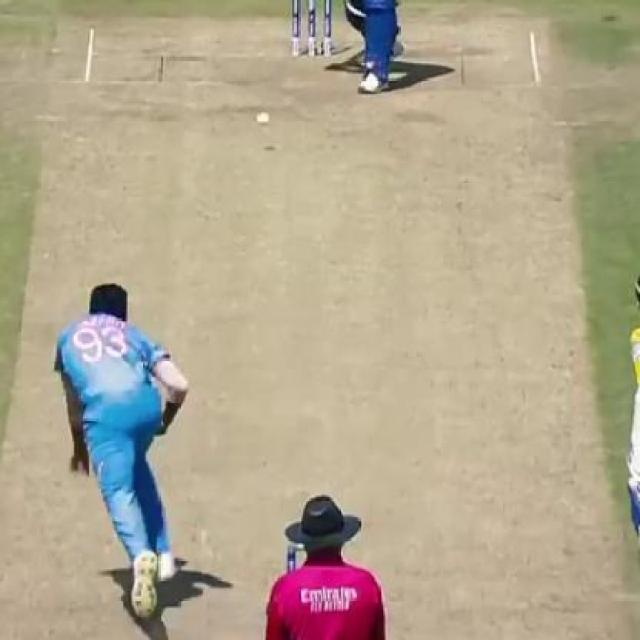Cricket ball: (255, 110, 272, 128)
Stumps: (287, 0, 335, 58)
